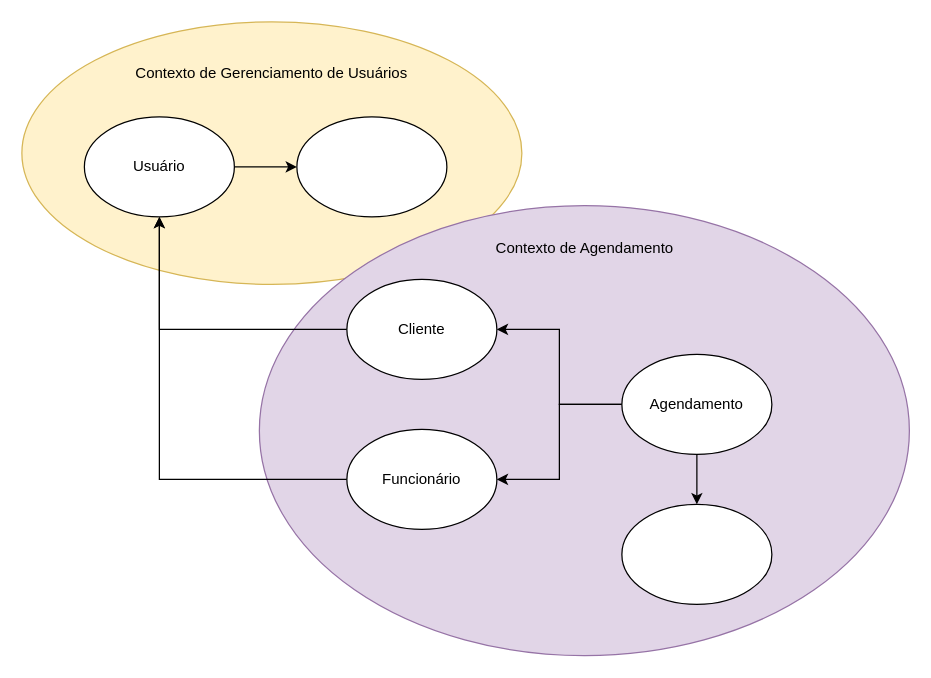
Image size: 931x678. Some labels were removed from this diagram. Here are the shapes that lost their labels. From the top down, the centre of each, then its label:
At pixel 371 166: "Permisões".
At pixel 696 553: "Serviço".
